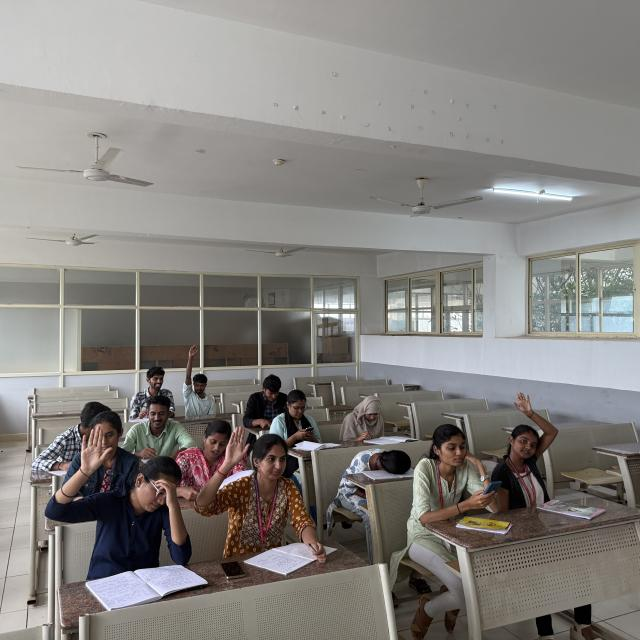Hand Rising: (59, 422, 200, 556), (206, 425, 302, 539), (494, 386, 556, 496), (181, 337, 221, 414)
Reading: (243, 370, 293, 427)
Sleeping: (332, 444, 414, 484)
Using Phone: (403, 417, 504, 514), (271, 390, 325, 450)
Writing: (334, 392, 409, 446)
